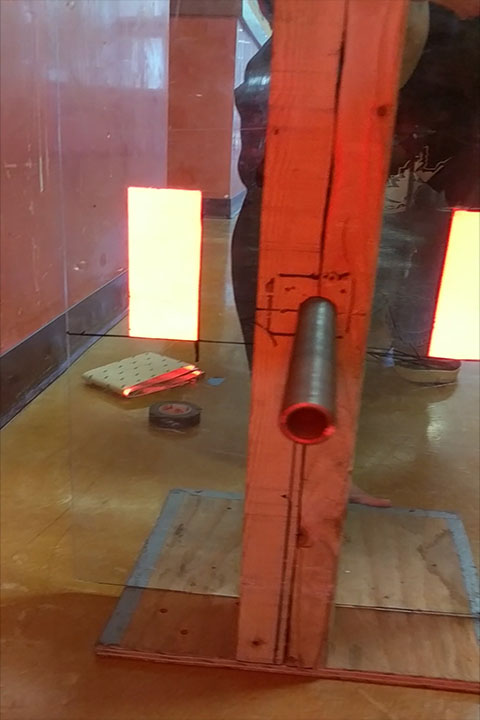gear: (127, 186, 202, 341), (425, 207, 479, 361)
